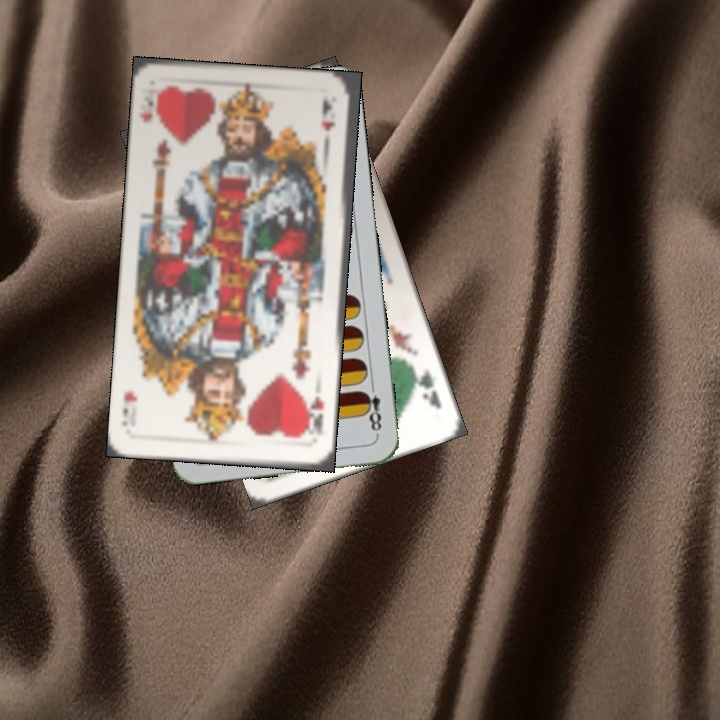E8: (359, 379, 384, 438)
GK: (407, 363, 444, 412)
HK: (301, 392, 327, 437), (136, 84, 162, 125)
